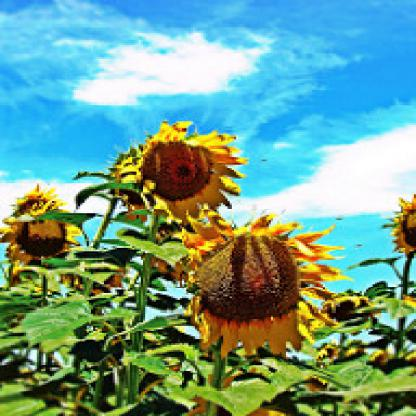SUN FLOWER: (12, 65, 391, 382)
